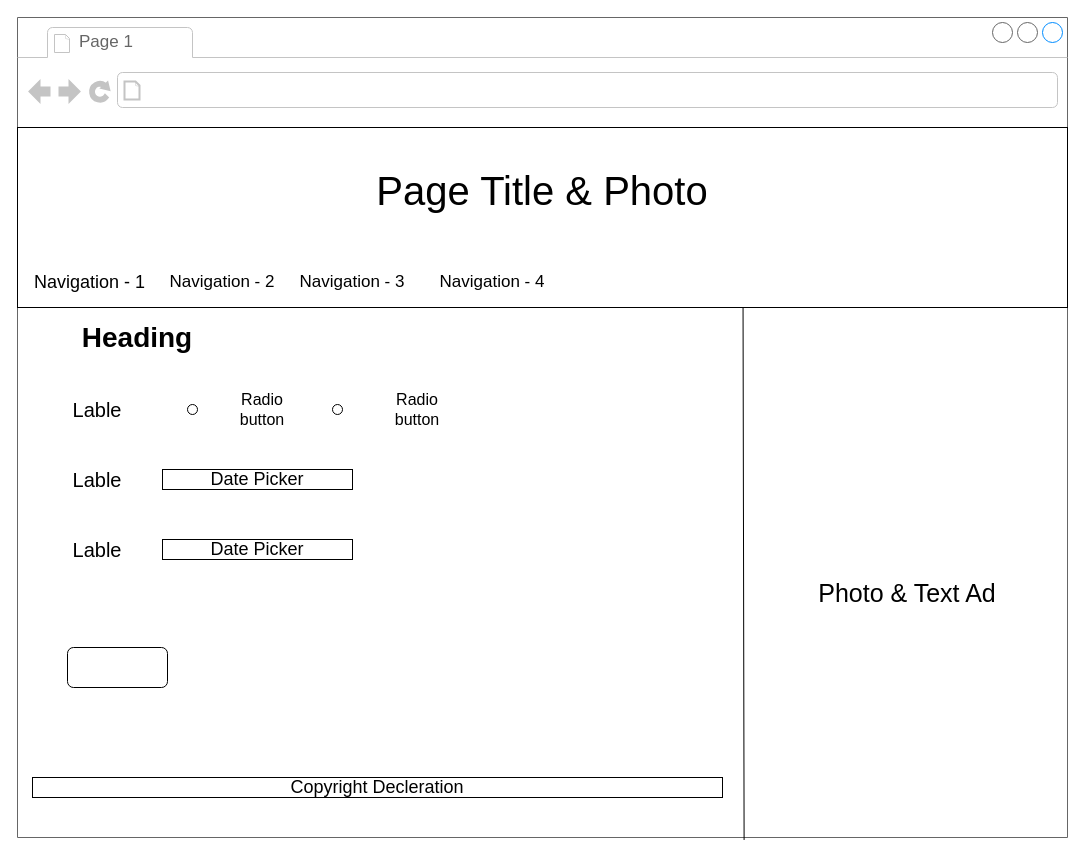
Image size: 1085x859. Some labels were removed from this diagram. The centre of each missing label's shape, as x and y in pixels:
"Button" belongs at (117,667).
"https://www.default.com" belongs at (272,90).
